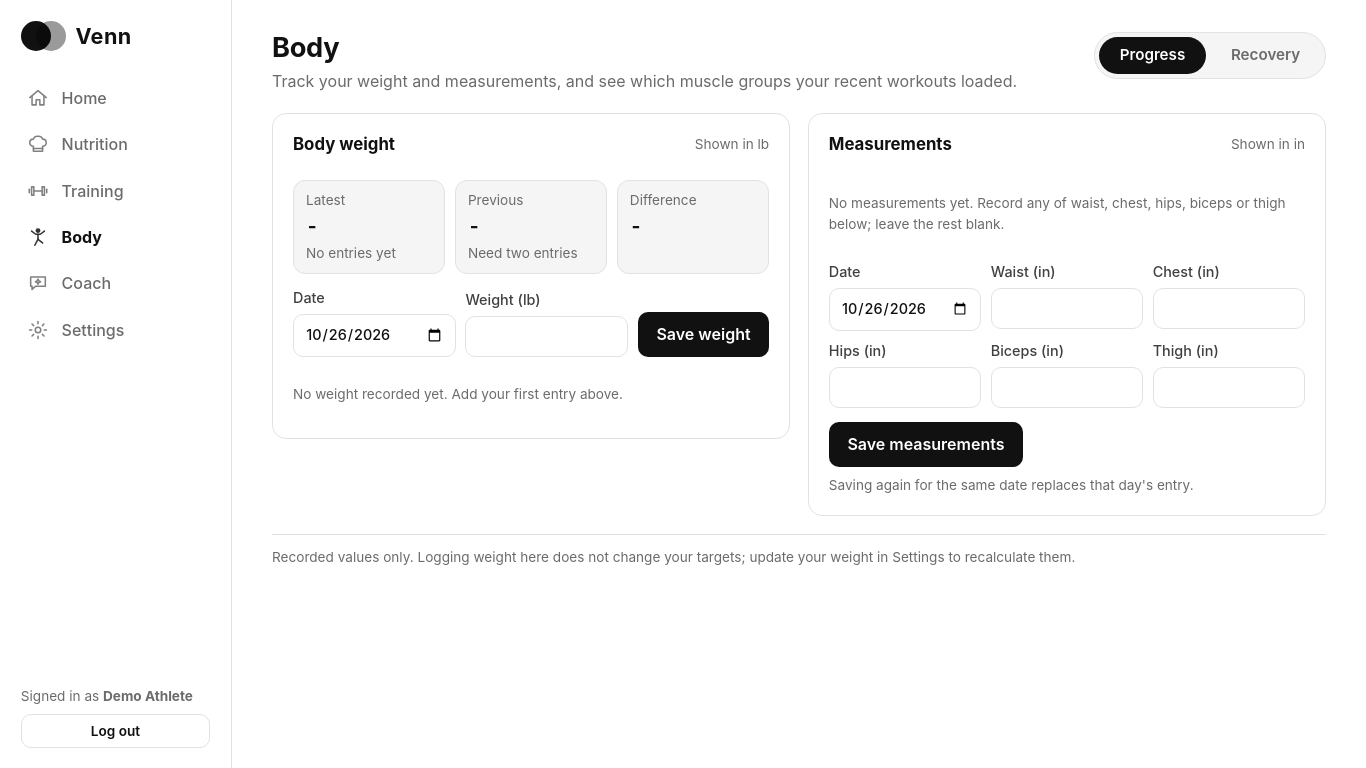
Test: body: progress › sends and shows weights in lb for imperial users
The width and height of the screenshot is (1366, 768).
Step 1. Type "180" into the number field labelled "Weight (lb)" → (547,336), box [465,316,628,357]
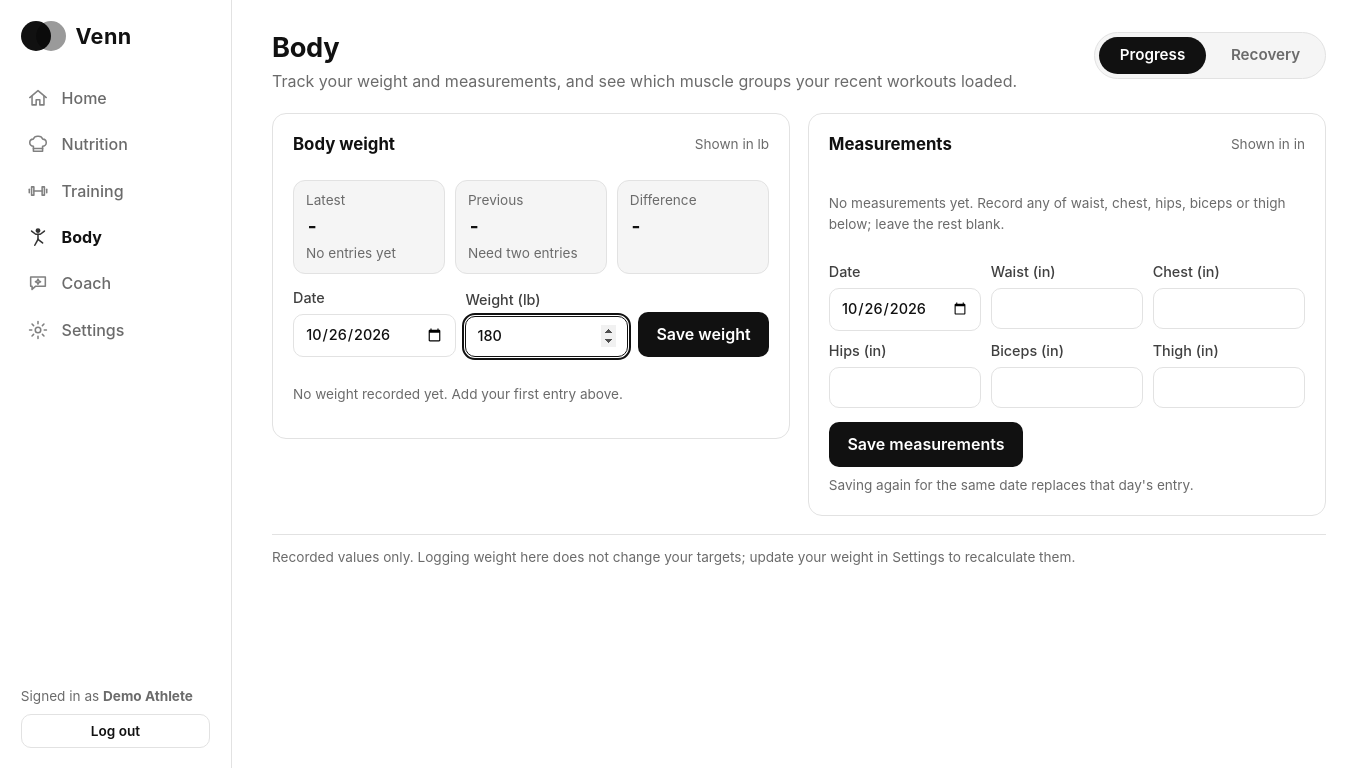
Step 2. Click the button "Save weight" → (704,334), box [638,312,769,357]
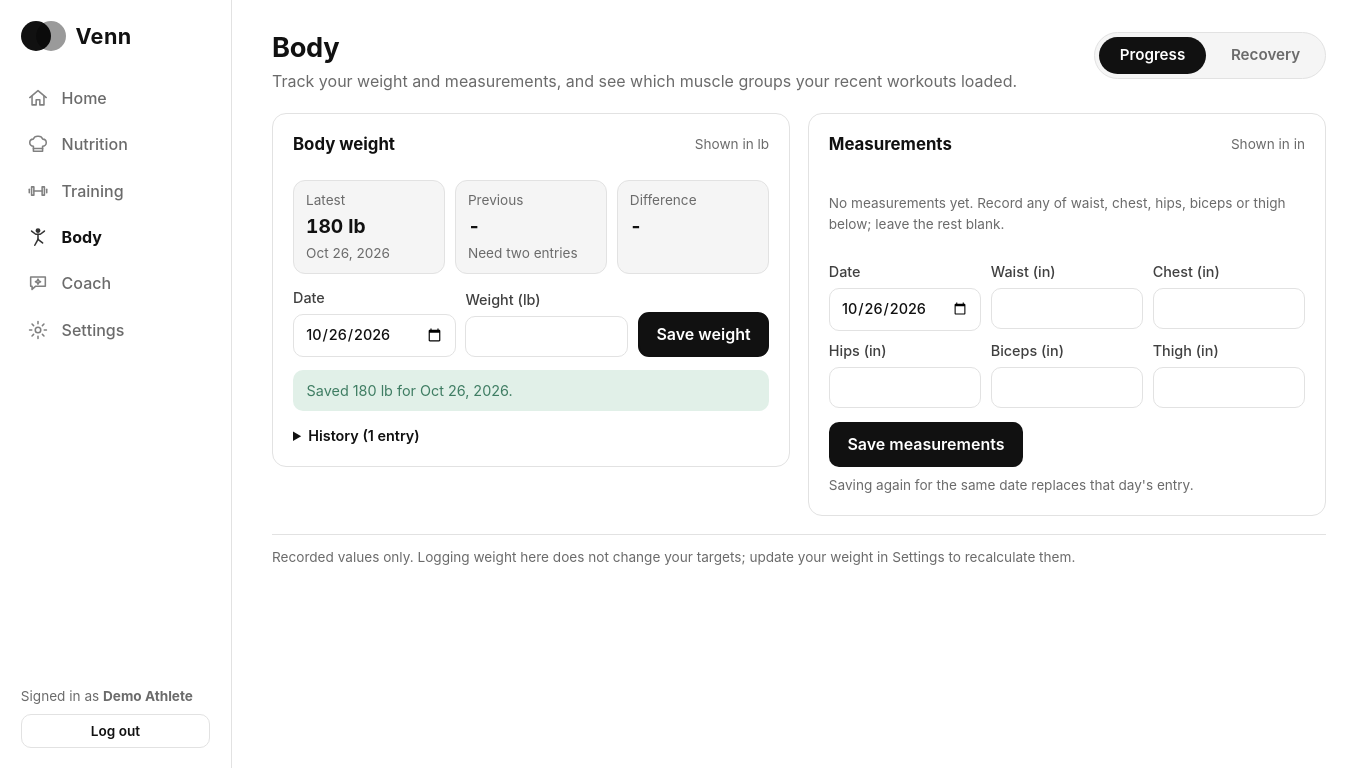
Expected: the number field labelled "Waist (in)" is shown, [991,288,1143,329]
Result: the text "180 lb" is shown at [306,214,366,238]
